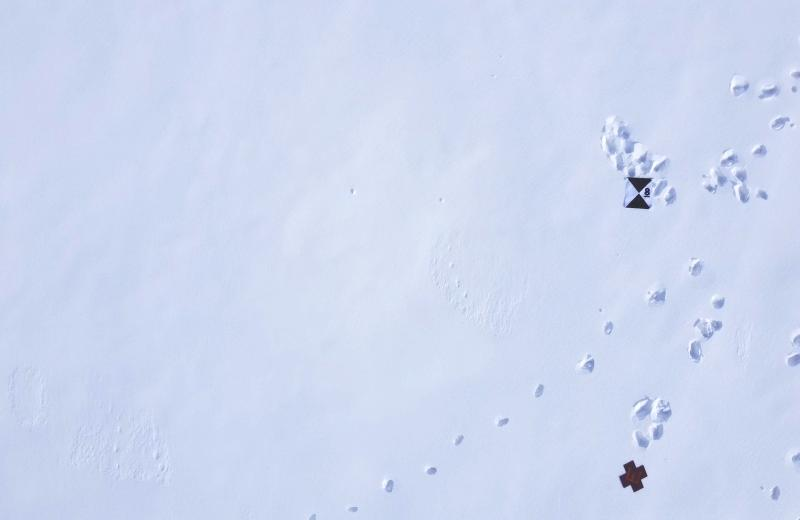Cross: (612, 456, 649, 496)
